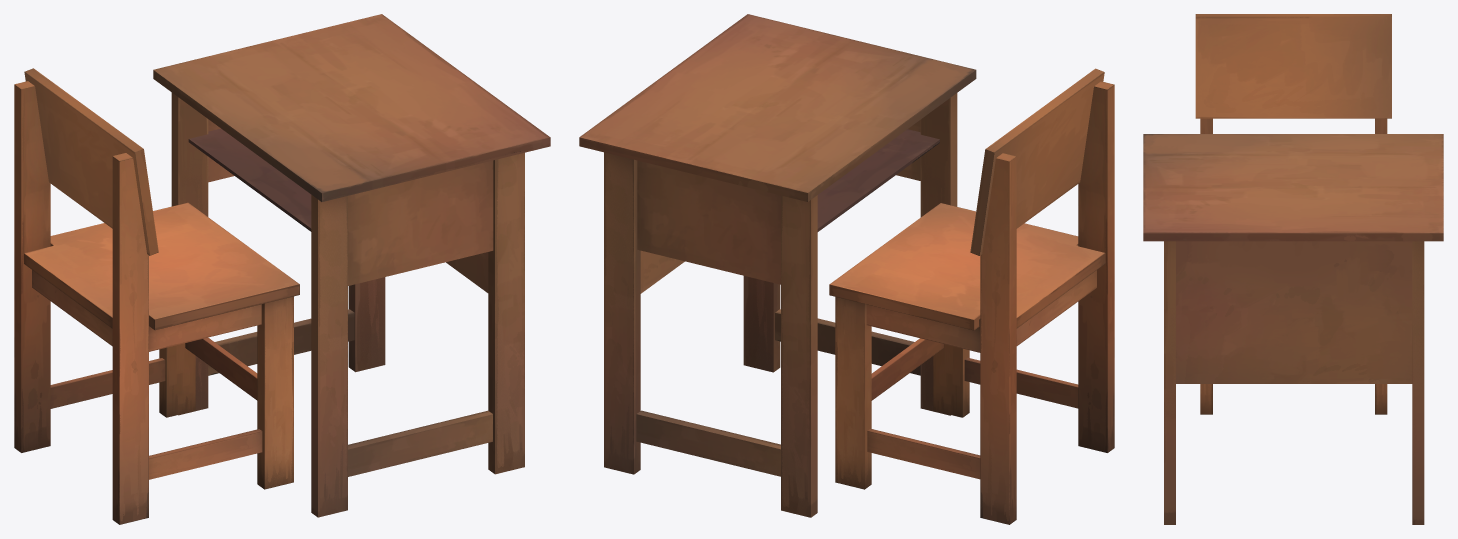
File: Classroom Desk & Chair.fbx
3 views of the same model, side by side, from view 1: azimuth 30°, elevation 25°; view 2: azimuth 150°, elevation 25°; view 3: azimuth 270°, elevation 25° (orthographic). The views are drawn at different scales.
Visible parts, largest first — view 1: polySurface25, polySurface20; view 2: polySurface25, polySurface20; view 3: polySurface25, polySurface20.
Part boxes in pixels (x1,y1,x2,y2): polySurface25: (153, 14, 550, 517); polySurface20: (14, 68, 299, 524); polySurface25: (579, 14, 976, 517); polySurface20: (829, 68, 1114, 524); polySurface25: (1143, 134, 1443, 524); polySurface20: (1195, 14, 1391, 414).
Bounding box in the file's own units: 0.9577 × 0.9029 × 0.7009.
